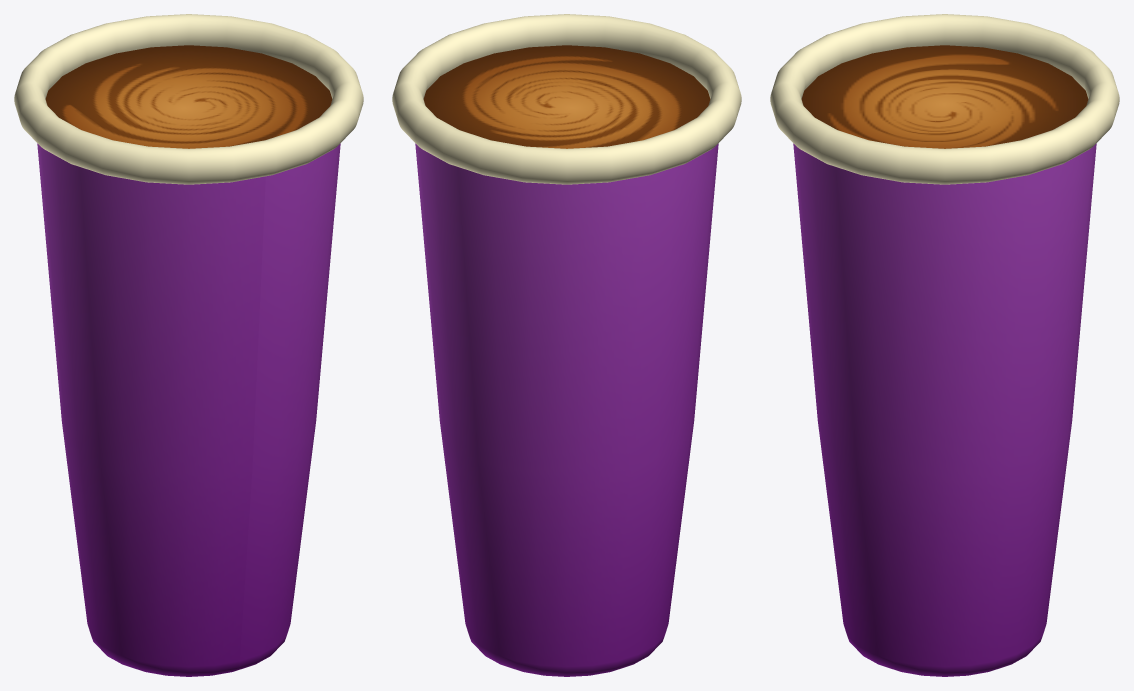
File: SM_PurpleCoffeMug_01a.fbx
The picture shows the model from 3 angles, left to right: view 1: azimuth 30°, elevation 25°; view 2: azimuth 150°, elevation 25°; view 3: azimuth 270°, elevation 25°; orthographic projection.
Visible parts, largest first — view 1: SM_PurpleCoffeMug_01a1; view 2: SM_PurpleCoffeMug_01a1; view 3: SM_PurpleCoffeMug_01a1.
Boxes of the visible parts, <box> form: SM_PurpleCoffeMug_01a1: <box>14,14,363,676</box>; SM_PurpleCoffeMug_01a1: <box>392,14,741,676</box>; SM_PurpleCoffeMug_01a1: <box>770,14,1119,676</box>.
Bounding box in the file's own units: 37.25 × 65.7 × 37.25.
